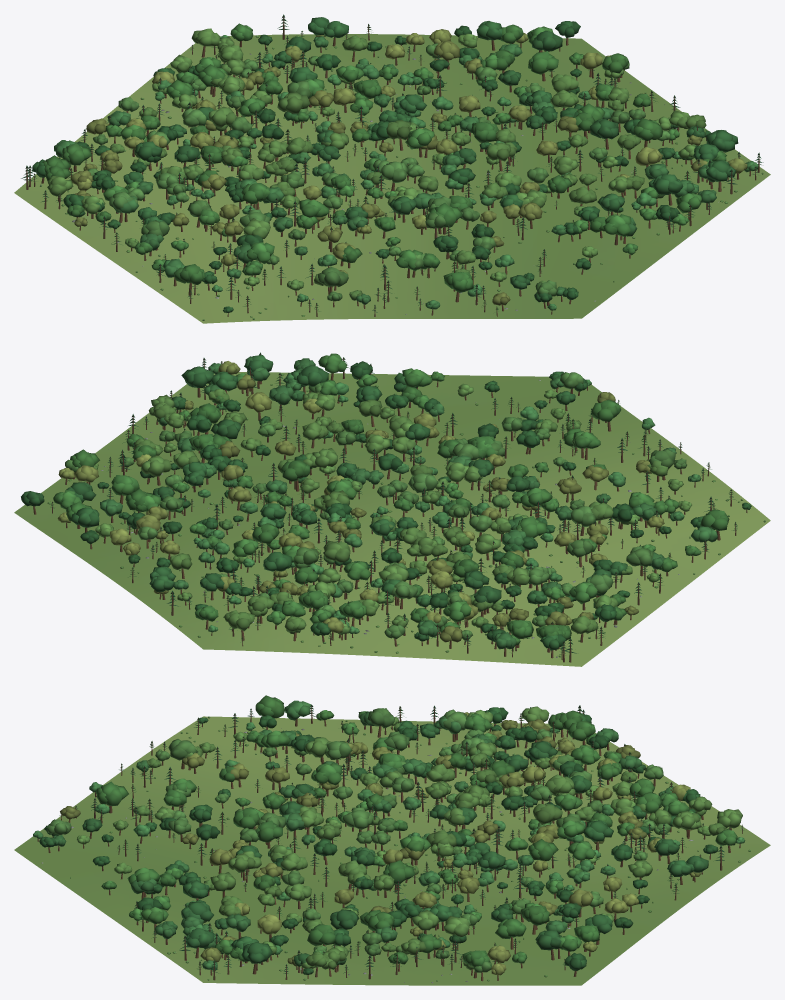
3 renders of one model, top to bottom at view 1: azimuth 30°, elevation 25°; view 2: azimuth 150°, elevation 25°; view 3: azimuth 270°, elevation 25°, orthographic.
Parts seen in each view (by area): view 1: broadleaf_canopy, terrain, trunks, conifer_canopy; view 2: broadleaf_canopy, terrain, trunks, conifer_canopy, shrubs; view 3: broadleaf_canopy, terrain, trunks, conifer_canopy, shrubs.
Part boxes in pixels (x1,y1,x2,y2): broadleaf_canopy: (32,17,758,312); terrain: (14,34,770,323); trunks: (26,16,759,316); conifer_canopy: (21,14,763,312); broadleaf_canopy: (21,353,751,650); terrain: (14,372,770,666); trunks: (33,353,747,662); conifer_canopy: (50,352,737,655); shrubs: (47,373,765,657); broadleaf_canopy: (33,695,745,975); terrain: (14,716,770,985); trunks: (37,705,742,981); conifer_canopy: (59,704,744,973); shrubs: (70,716,750,981).
Size of the model in its own units: 4330 by 345 by 5000.
